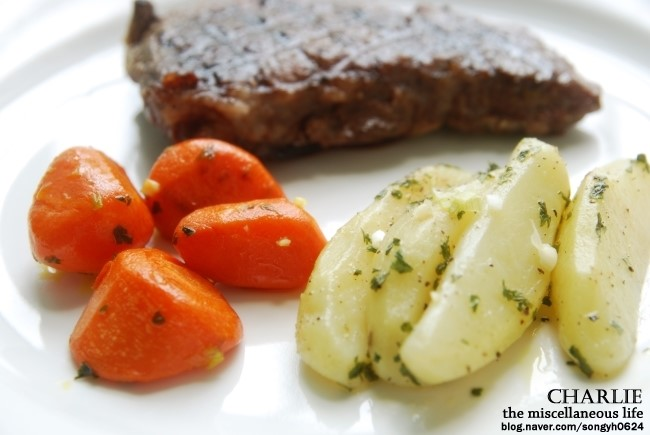boiled potatoes: (328, 145, 633, 365)
